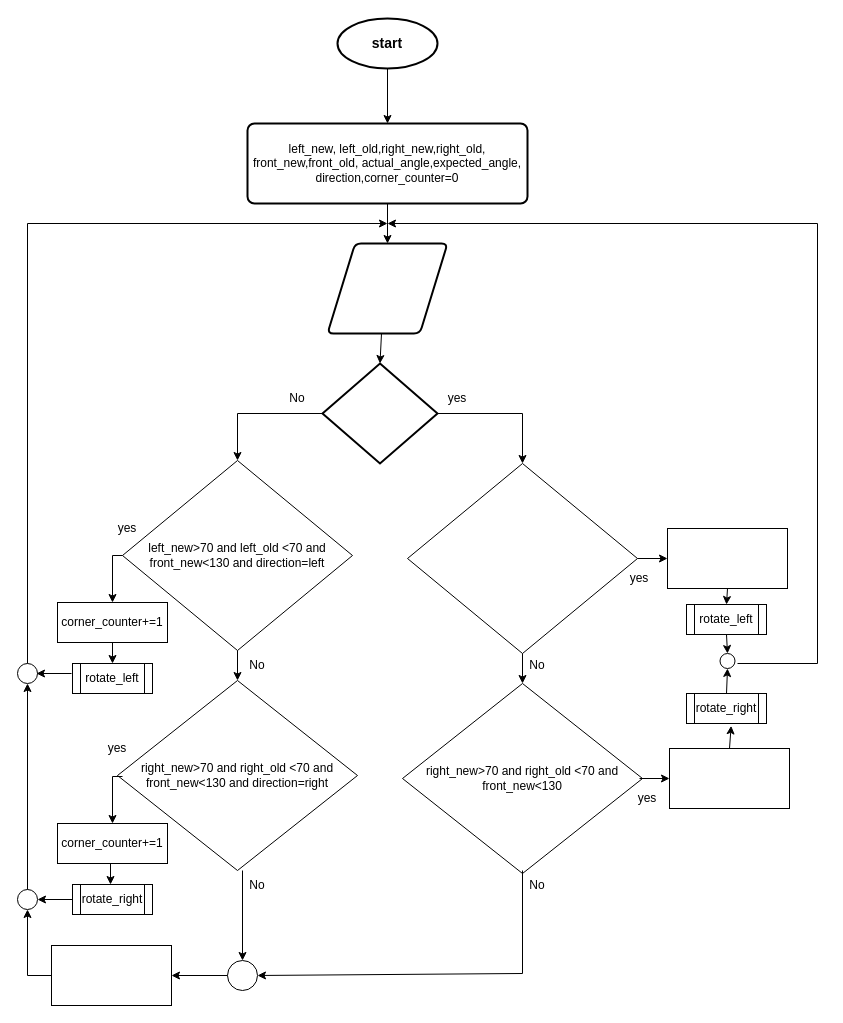
Some shapes in this 843 by 1023 pixel diagram are drawn without their labels. The centre of each missing label's shape, as x and y in pixels:
"corner_counter=0" belongs at point 379,413.
"direction=left corner_counter+=1" belongs at point 727,558.
"direction=right corner_counter+=1" belongs at point 729,778.
"left_new right_new front_new actual_angle" belongs at point 387,288.
"left_new>70 and left_old <70 and front_new<130" belongs at point 522,558.
"right_old=right_new left_old=left_new front_old=front_new" belongs at point 111,975.
